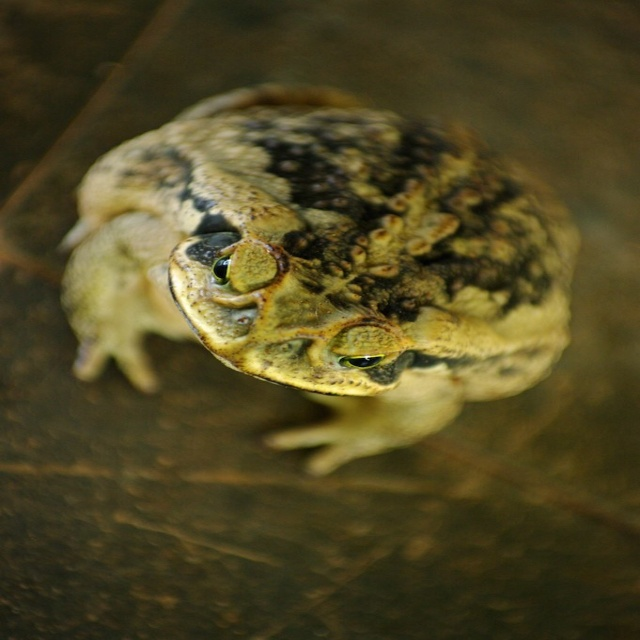Frog: (57, 80, 583, 475)
